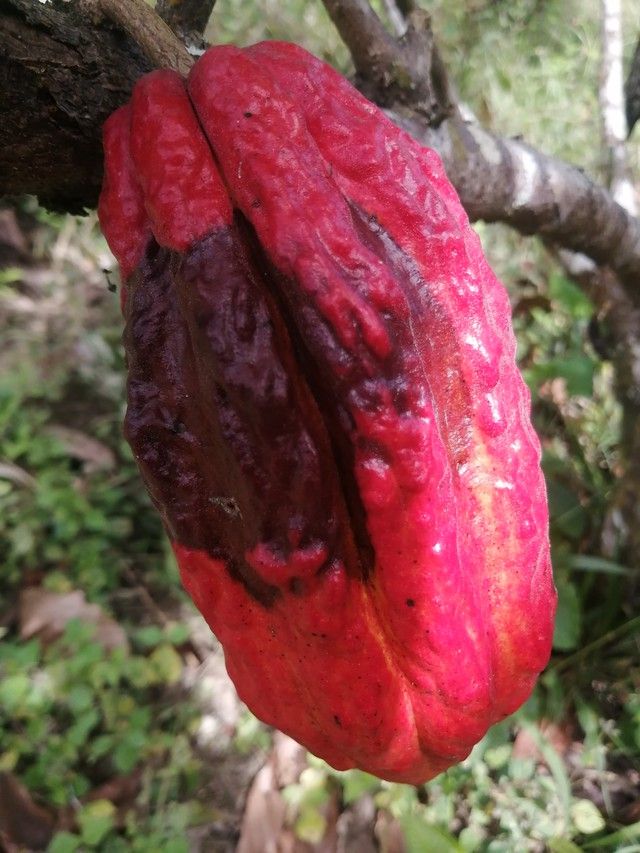phytophthora palmivora: (74, 27, 571, 796)
